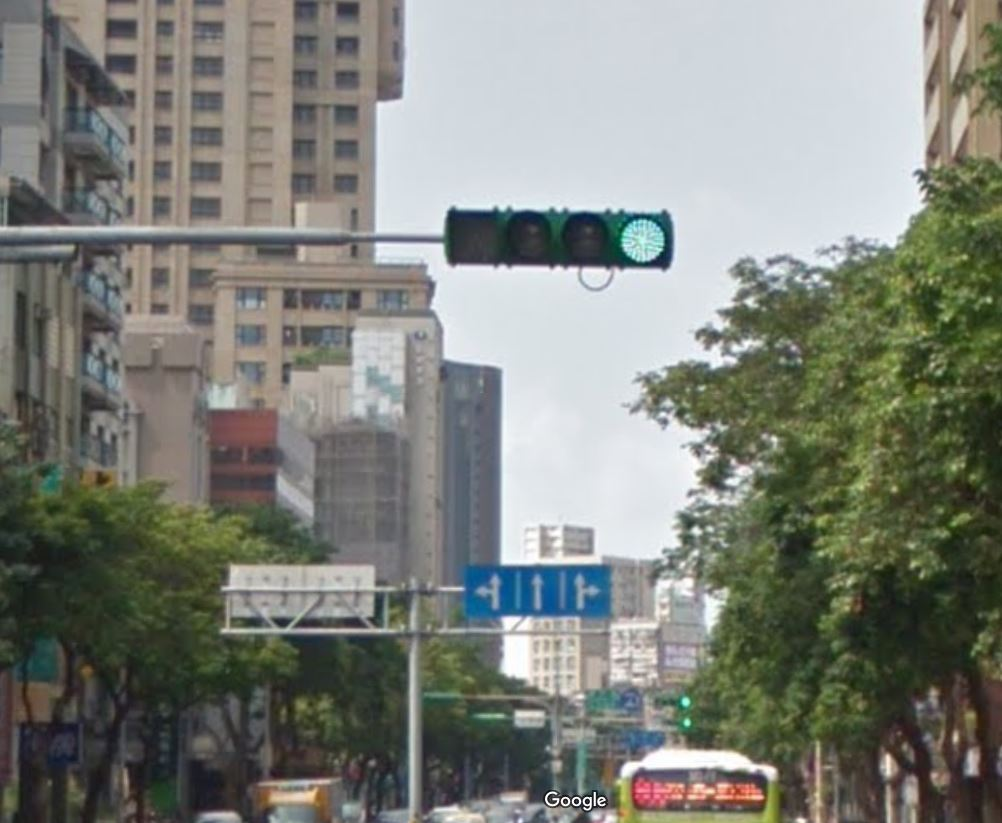Traffic_light_green: (450, 204, 678, 276)
